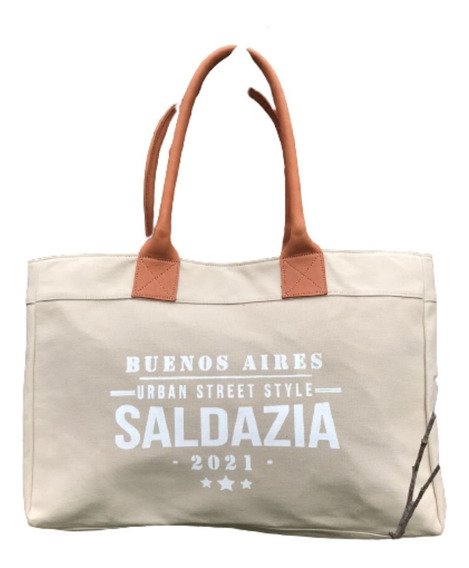cartera: (22, 44, 449, 541)
